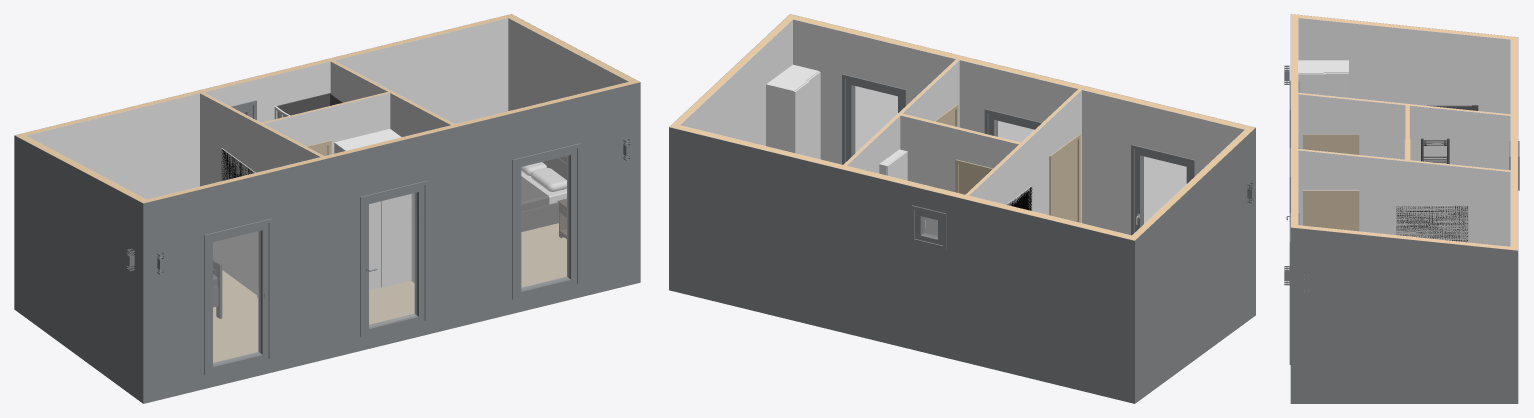
The model's file is donatas@etapasgroup.lt_(3,6x8,0)_R00_miegamasis korpusas 2.fbx.
3 views of the same model, side by side, from view 1: azimuth 30°, elevation 25°; view 2: azimuth 150°, elevation 25°; view 3: azimuth 270°, elevation 25° (orthographic). The views are drawn at different scales.
Visible parts, largest first — view 1: IfcWall/Part:2397155, IfcWall/Part:2319976, IfcWall/Part:2659861, IfcWindow/Langai (Akrusta):1000x2100x120 (dešininis):2645602, IfcWindow/Langai (Akrusta):1000x2100x120 (kairinis):2657333, IfcDoor/Durys išorinės:1000x2100x120 (dešininės):2647230, IfcSlab/Part:2319985, IfcWall/Part:2635882, IfcWall/Part:2659871, IfcFurnishingElement/Ikea spinta:900 x 600 x 2100mm:2663388, IfcWall/Part:2584019, IfcFurnishingElement/Lova (BED) IKEA:Full Size - Black/Brow (+8 smaller); view 2: IfcWall/Part:2319977, IfcWall/Part:2397154, IfcWall/Part:2659861, IfcWall/Part:2659871, IfcWall/Part:2584018, IfcWall/Part:2635882, IfcFurnishingElement/Ikea spinta:800 x 500 x 2100mm:2654492, IfcWindow/Langai (Akrusta):1000x2100x120 (dešininis):2645602, IfcWindow/Langai (Akrusta):1000x2100x120 (kairinis):2657333, IfcDoor/Durys vidinės:800x2100 x 120 (dešininės):2635891, IfcWall/Part:2397156, IfcWall/Part:2319978 (+8 smaller); view 3: IfcWall/Part:2659872, IfcWall/Part:2659860, IfcWall/Part:2636865, IfcWall/Part:2635881, IfcWall/Part:2637351, IfcBuildingElementProxy/TV Sony1:50'':2667332, IfcDoor/Durys vidinės:800x2100 x 120 (kairinės):2652865, IfcFurnishingElement/Ikea spinta:800 x 500 x 2100mm:2663602, IfcWall/Part:2397156, IfcWall/Part:2319978, IfcDoor/Durys vidinės:800x2100 x 120 (dešininės):2635891, IfcWall/Part:2659873 (+6 smaller).
Boxes of the visible parts, left/top/right/bottom form: IfcWall/Part:2397155: left=143, top=82, right=640, bottom=403; IfcWall/Part:2319976: left=26, top=18, right=508, bottom=199; IfcWall/Part:2659861: left=14, top=135, right=143, bottom=403; IfcWindow/Langai (Akrusta):1000x2100x120 (dešininis):2645602: left=512, top=143, right=580, bottom=299; IfcWindow/Langai (Akrusta):1000x2100x120 (kairinis):2657333: left=204, top=218, right=272, bottom=374; IfcDoor/Durys išorinės:1000x2100x120 (dešininės):2647230: left=360, top=180, right=428, bottom=336; IfcSlab/Part:2319985: left=213, top=223, right=566, bottom=362; IfcWall/Part:2635882: left=200, top=93, right=320, bottom=294; IfcWall/Part:2659871: left=508, top=18, right=628, bottom=110; IfcFurnishingElement/Ikea spinta:900 x 600 x 2100mm:2663388: left=334, top=129, right=411, bottom=289; IfcWall/Part:2584019: left=263, top=93, right=390, bottom=153; IfcFurnishingElement/Lova (BED) IKEA:Full Size - Black/Brow: left=521, top=105, right=566, bottom=231; IfcWall/Part:2319977: left=669, top=127, right=1134, bottom=403; IfcWall/Part:2397154: left=793, top=19, right=1244, bottom=234; IfcWall/Part:2659861: left=1135, top=128, right=1255, bottom=403; IfcWall/Part:2659871: left=680, top=19, right=792, bottom=145; IfcWall/Part:2584018: left=900, top=115, right=1018, bottom=235; IfcWall/Part:2635882: left=969, top=90, right=1081, bottom=222; IfcFurnishingElement/Ikea spinta:800 x 500 x 2100mm:2654492: left=766, top=64, right=820, bottom=159; IfcWindow/Langai (Akrusta):1000x2100x120 (dešininis):2645602: left=842, top=74, right=906, bottom=164; IfcWindow/Langai (Akrusta):1000x2100x120 (kairinis):2657333: left=1131, top=144, right=1194, bottom=235; IfcDoor/Durys vidinės:800x2100 x 120 (dešininės):2635891: left=1049, top=134, right=1080, bottom=222; IfcWall/Part:2397156: left=787, top=14, right=1254, bottom=131; IfcWall/Part:2319978: left=676, top=125, right=1138, bottom=240; IfcWall/Part:2659872: left=1291, top=227, right=1518, bottom=403; IfcWall/Part:2659860: left=1298, top=18, right=1510, bottom=114; IfcWall/Part:2636865: left=1298, top=150, right=1510, bottom=246; IfcWall/Part:2635881: left=1409, top=105, right=1510, bottom=169; IfcWall/Part:2637351: left=1298, top=94, right=1405, bottom=159; IfcBuildingElementProxy/TV Sony1:50'':2667332: left=1396, top=205, right=1468, bottom=242; IfcDoor/Durys vidinės:800x2100 x 120 (kairinės):2652865: left=1303, top=190, right=1359, bottom=231; IfcFurnishingElement/Ikea spinta:800 x 500 x 2100mm:2663602: left=1298, top=60, right=1348, bottom=97; IfcWall/Part:2397156: left=1291, top=14, right=1297, bottom=228; IfcWall/Part:2319978: left=1511, top=36, right=1517, bottom=247; IfcDoor/Durys vidinės:800x2100 x 120 (dešininės):2635891: left=1303, top=134, right=1359, bottom=154; IfcWall/Part:2659873: left=1298, top=225, right=1517, bottom=250.
Size of the model in its own units: 820 by 308 by 372.
